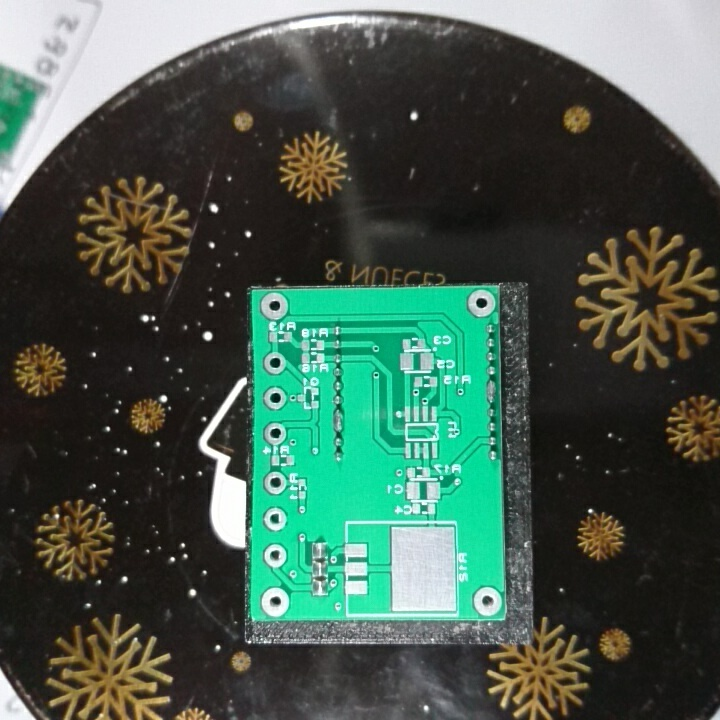F: (471, 585, 504, 619), (465, 288, 497, 320), (259, 290, 291, 322), (259, 585, 290, 617), (261, 540, 289, 570), (261, 469, 288, 497), (262, 420, 288, 447), (262, 506, 289, 532), (262, 385, 288, 410), (262, 350, 285, 376)
P: (484, 378, 499, 406), (331, 407, 345, 432)
